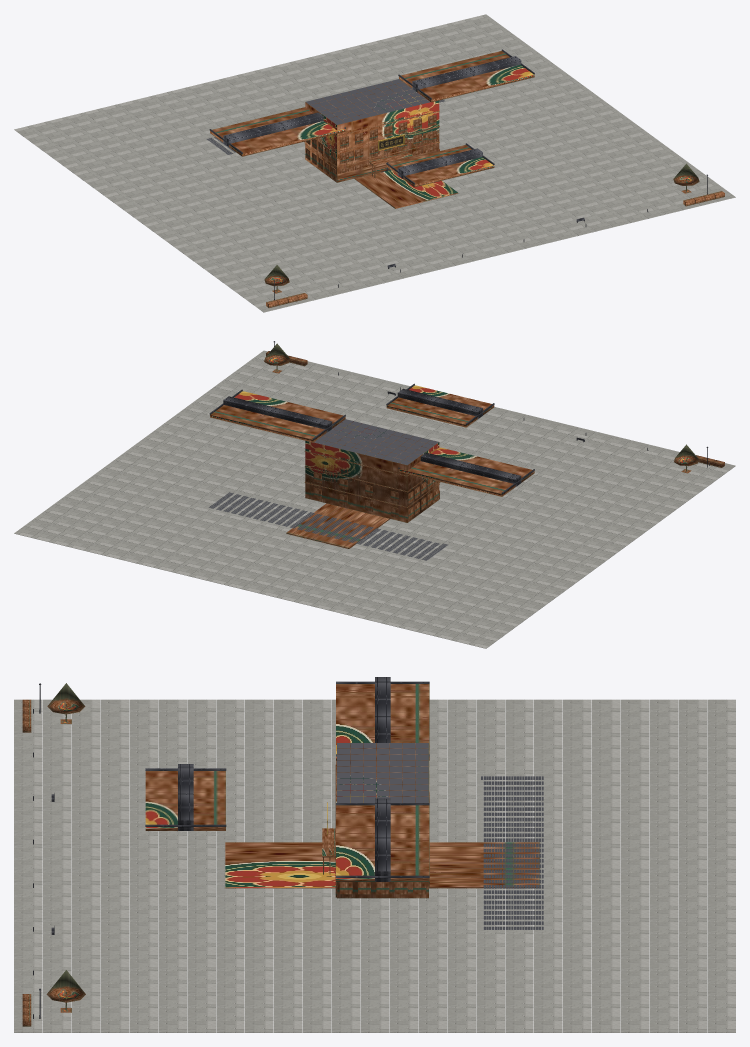
3 views of the same model, one above another, from view 1: azimuth 30°, elevation 25°; view 2: azimuth 150°, elevation 25°; view 3: azimuth 270°, elevation 25° (orthographic). The views are drawn at different scales.
Visible parts, largest first — view 1: 11710_01_05838_035_01__plinth_ground_base, 11710_01_05838_035_02__mass_body_facade, 11710_01_05838_035_03__roof_metal_ornament, 11710_01_05838_035_03__roof_deck_structure, 11710_01_05838_035_05__window_sash_glass, 11710_01_05838_035_06__landscape_greenery; view 2: 11710_01_05838_035_01__plinth_ground_base, 11710_01_05838_035_02__mass_body_facade, 11710_01_05838_035_03__roof_deck_structure, 11710_01_05838_035_03__roof_metal_ornament, 11710_01_05838_035_06__landscape_greenery; view 3: 11710_01_05838_035_01__plinth_ground_base, 11710_01_05838_035_02__mass_body_facade, 11710_01_05838_035_03__roof_deck_structure, 11710_01_05838_035_03__roof_metal_ornament, 11710_01_05838_035_06__landscape_greenery.
Boxes of the visible parts, x1=… form: 11710_01_05838_035_01__plinth_ground_base: x1=14, y1=14, x2=735, y2=312; 11710_01_05838_035_02__mass_body_facade: x1=210, y1=51, x2=534, y2=208; 11710_01_05838_035_03__roof_metal_ornament: x1=209, y1=49, x2=534, y2=184; 11710_01_05838_035_03__roof_deck_structure: x1=206, y1=79, x2=444, y2=154; 11710_01_05838_035_05__window_sash_glass: x1=340, y1=114, x2=436, y2=173; 11710_01_05838_035_06__landscape_greenery: x1=264, y1=163, x2=724, y2=307; 11710_01_05838_035_01__plinth_ground_base: x1=14, y1=350, x2=735, y2=648; 11710_01_05838_035_02__mass_body_facade: x1=210, y1=385, x2=534, y2=548; 11710_01_05838_035_03__roof_deck_structure: x1=209, y1=419, x2=447, y2=560; 11710_01_05838_035_03__roof_metal_ornament: x1=209, y1=383, x2=534, y2=494; 11710_01_05838_035_06__landscape_greenery: x1=264, y1=343, x2=724, y2=473; 11710_01_05838_035_01__plinth_ground_base: x1=14, y1=699, x2=735, y2=1032; 11710_01_05838_035_02__mass_body_facade: x1=145, y1=684, x2=540, y2=898; 11710_01_05838_035_03__roof_deck_structure: x1=337, y1=743, x2=543, y2=929; 11710_01_05838_035_03__roof_metal_ornament: x1=145, y1=677, x2=429, y2=881; 11710_01_05838_035_06__landscape_greenery: x1=22, y1=683, x2=85, y2=1026.
Bounding box in the file's own units: 120 × 16.5 × 110.
Materials: 7 (7 with a texture image).
